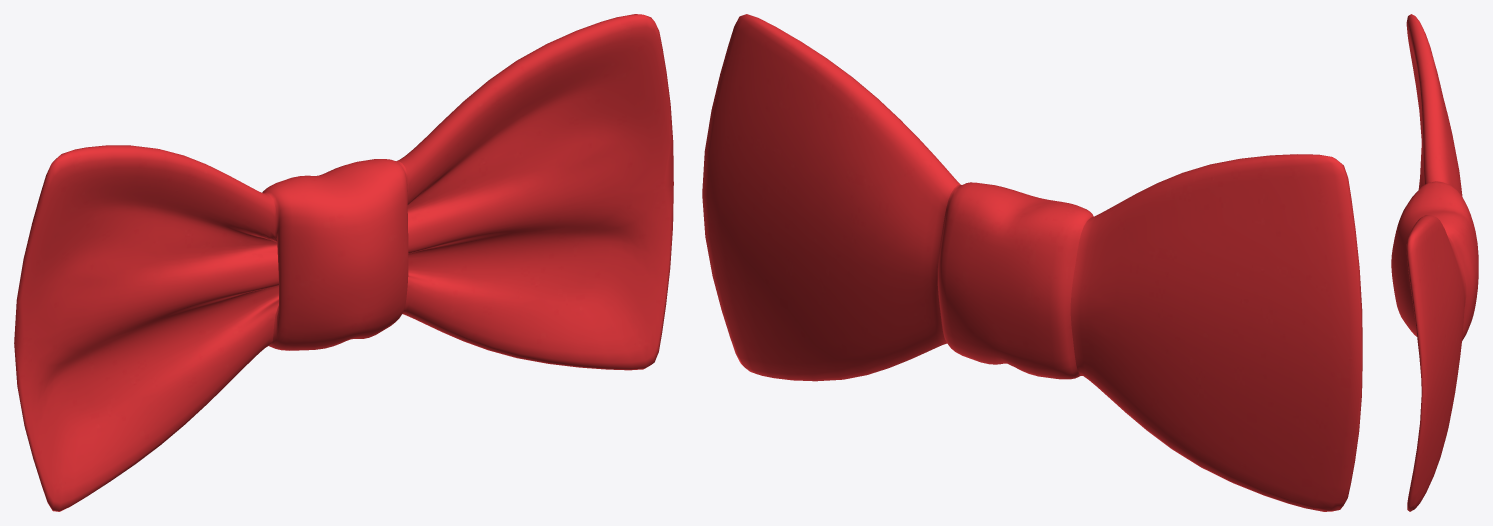
The model's file is red_bowtie.glb.
The picture shows the model from 3 angles, left to right: view 1: azimuth 30°, elevation 25°; view 2: azimuth 150°, elevation 25°; view 3: azimuth 270°, elevation 25°; orthographic projection. The views are drawn at different scales.
Visible parts, largest first — view 1: Cube_BowtieMat_0; view 2: Cube_BowtieMat_0; view 3: Cube_BowtieMat_0.
Boxes of the visible parts, left/top/right/bottom form: Cube_BowtieMat_0: left=14, top=14, right=673, bottom=511; Cube_BowtieMat_0: left=702, top=14, right=1362, bottom=511; Cube_BowtieMat_0: left=1391, top=14, right=1478, bottom=511.
Bounding box in the file's own units: 509 × 262 × 75.12.
1 material, 1 textured.
